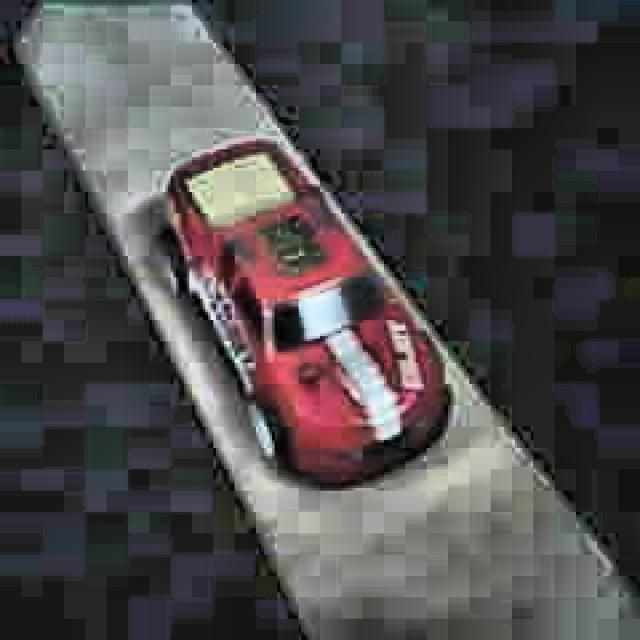car: (153, 136, 455, 494)
